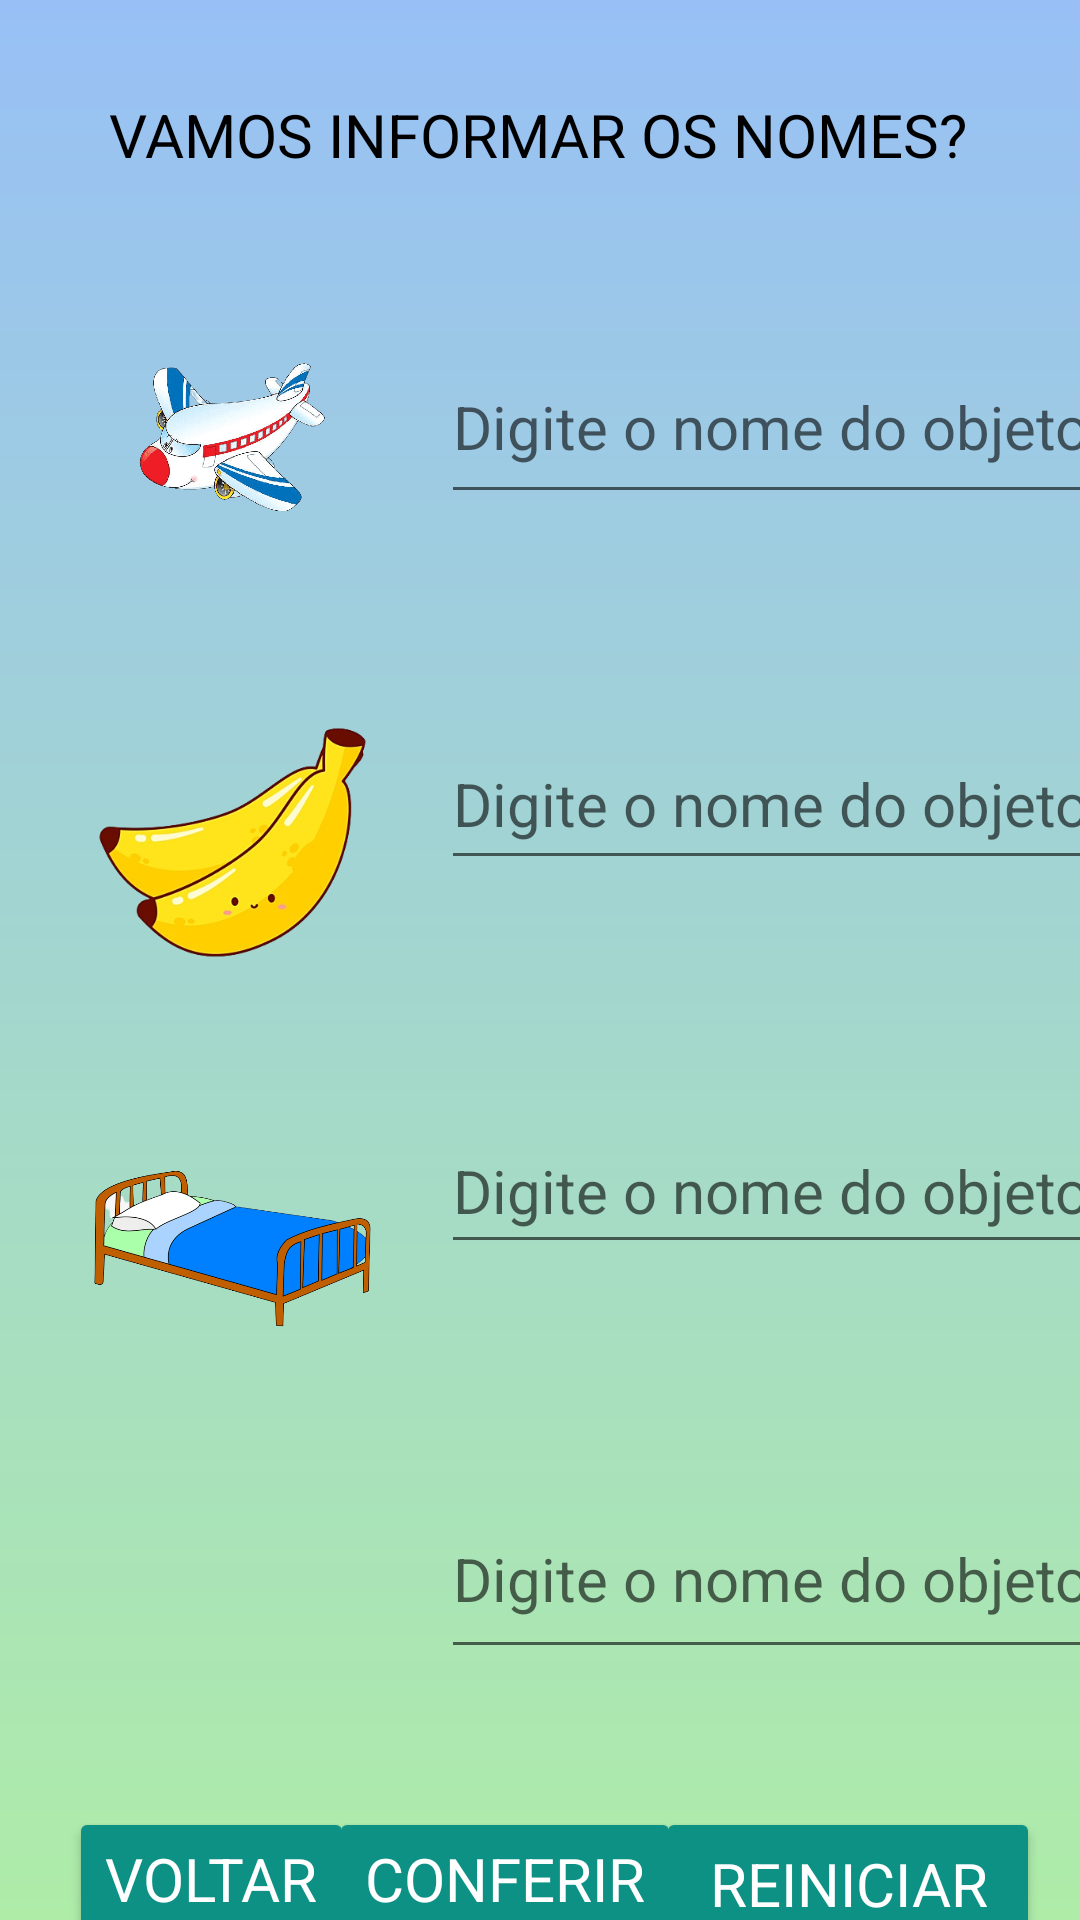

Icon click points for this 1080×1920 phone screenshot, format [x,y]:
aviao: [232,437]
bananatf: [232,842]
cama: [232,1249]
